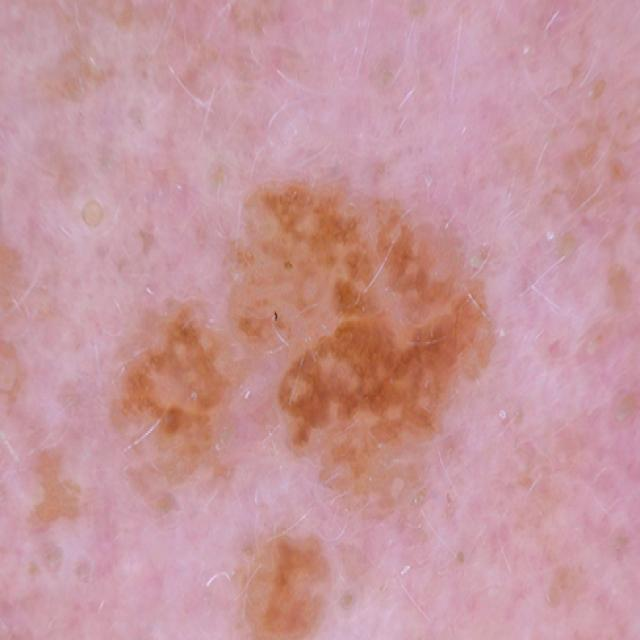Keratosis: (101, 142, 573, 640), (114, 239, 271, 527), (198, 465, 401, 640)
